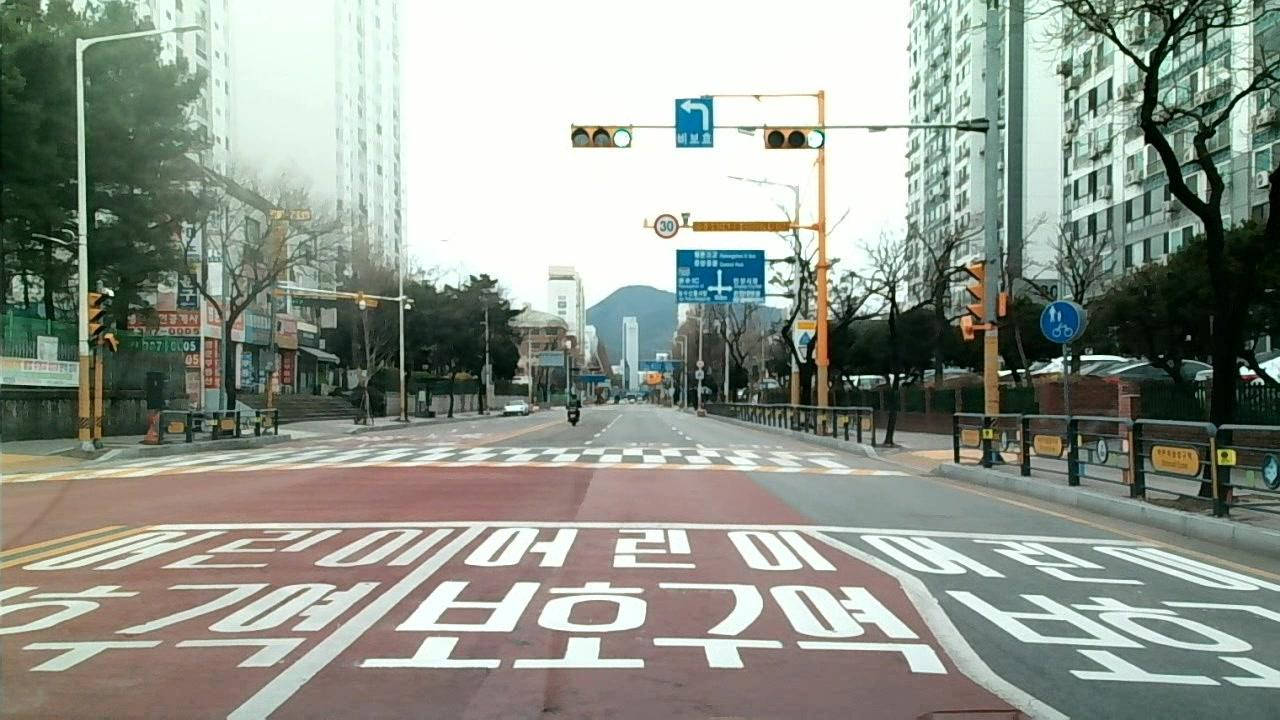banner: (1, 357, 85, 389)
